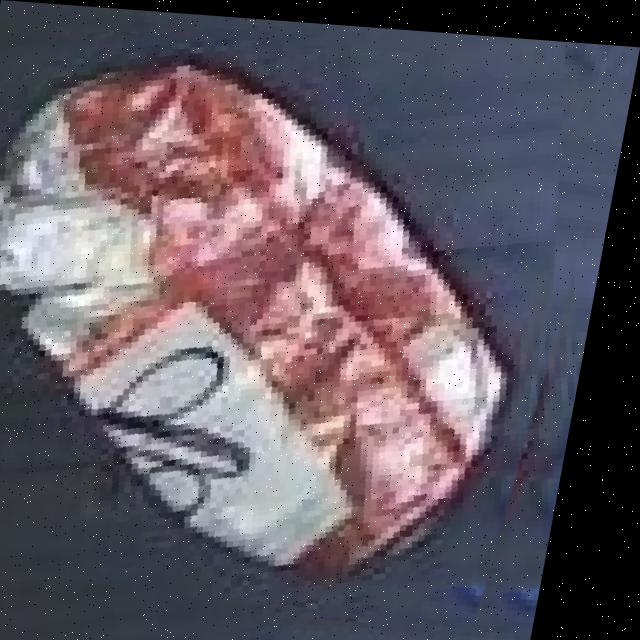can: (0, 36, 567, 603)
